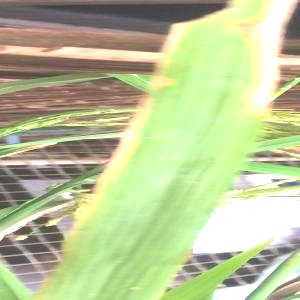Leaf_Blast: (157, 1, 284, 205)
